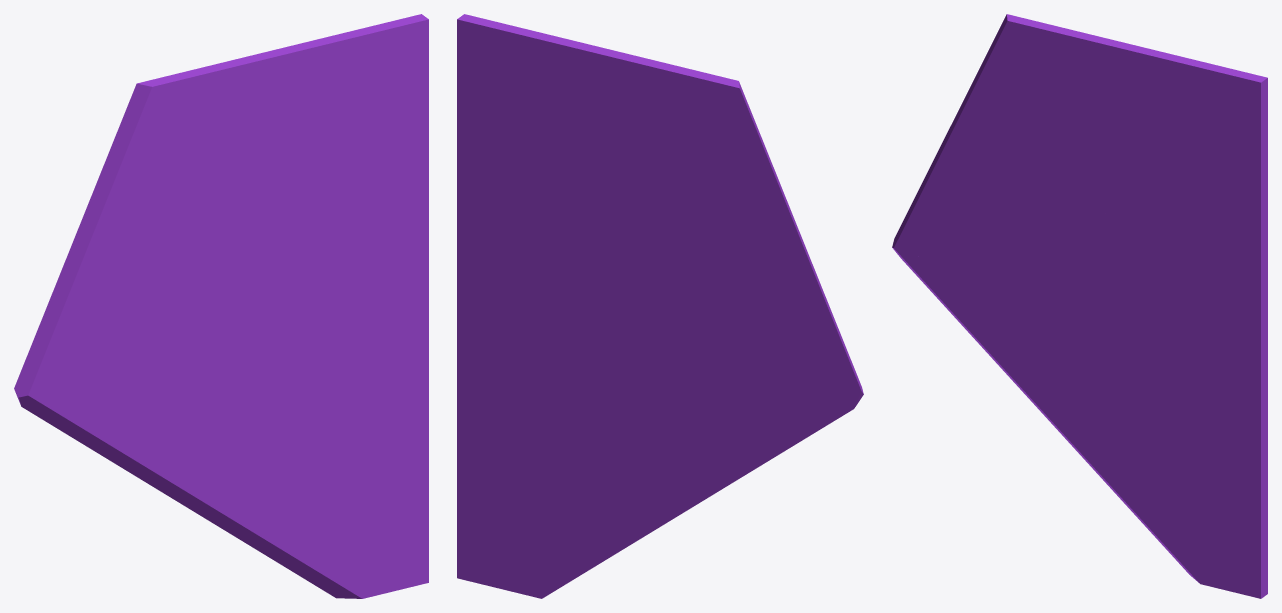
File: Glass_10_3_chunks.fbx
3 views of the same model, side by side, from view 1: azimuth 30°, elevation 25°; view 2: azimuth 150°, elevation 25°; view 3: azimuth 330°, elevation 25° (orthographic). The views are drawn at different scales.
Visible parts, largest first — view 1: Glass_10_3_3, Glass_10_3_12, Glass_10_3_20, Glass_10_3_0, Glass_10_3_22, Glass_10_3_9, Glass_10_3_11, Glass_10_3_2, Glass_10_3_4, Glass_10_3_17, Glass_10_3_14, Glass_10_3_18 (+12 smaller); view 2: Glass_10_3_3, Glass_10_3_0, Glass_10_3_1, Glass_10_3_20, Glass_10_3_9, Glass_10_3_4, Glass_10_3_16, Glass_10_3_22, Glass_10_3_12, Glass_10_3_18, Glass_10_3_14, Glass_10_3_17 (+10 smaller); view 3: Glass_10_3_3, Glass_10_3_20, Glass_10_3_0, Glass_10_3_12, Glass_10_3_11, Glass_10_3_2, Glass_10_3_22, Glass_10_3_4, Glass_10_3_9, Glass_10_3_17, Glass_10_3_14, Glass_10_3_16 (+12 smaller).
Boxes of the visible parts, x1,y1,x2,y2 form: Glass_10_3_3: (222, 14, 428, 168); Glass_10_3_12: (64, 86, 196, 278); Glass_10_3_20: (274, 142, 428, 337); Glass_10_3_0: (126, 63, 269, 255); Glass_10_3_22: (162, 413, 304, 578); Glass_10_3_9: (17, 264, 146, 396); Glass_10_3_11: (134, 220, 245, 372); Glass_10_3_2: (246, 158, 412, 293); Glass_10_3_4: (255, 423, 358, 598); Glass_10_3_17: (233, 301, 322, 427); Glass_10_3_14: (349, 496, 428, 598); Glass_10_3_18: (300, 307, 428, 430); Glass_10_3_3: (457, 14, 659, 174); Glass_10_3_0: (617, 62, 750, 274); Glass_10_3_1: (548, 170, 690, 348); Glass_10_3_20: (457, 155, 606, 347); Glass_10_3_9: (732, 267, 861, 386); Glass_10_3_4: (531, 424, 621, 598); Glass_10_3_16: (457, 325, 532, 488); Glass_10_3_22: (573, 458, 712, 579); Glass_10_3_12: (715, 80, 813, 270); Glass_10_3_18: (457, 295, 588, 431); Glass_10_3_14: (457, 485, 540, 596); Glass_10_3_17: (563, 309, 645, 427); Glass_10_3_3: (1080, 33, 1267, 202); Glass_10_3_20: (1119, 195, 1267, 333); Glass_10_3_0: (997, 14, 1114, 204); Glass_10_3_12: (938, 20, 1047, 188); Glass_10_3_11: (991, 167, 1092, 303); Glass_10_3_2: (1093, 148, 1245, 267); Glass_10_3_22: (1016, 341, 1159, 541); Glass_10_3_4: (1102, 375, 1197, 581); Glass_10_3_9: (893, 147, 1002, 280); Glass_10_3_17: (1082, 271, 1163, 399); Glass_10_3_14: (1188, 497, 1267, 598); Glass_10_3_16: (1200, 360, 1267, 507).
Bounding box in the file's own units: 866 × 1144 × 27.2.
